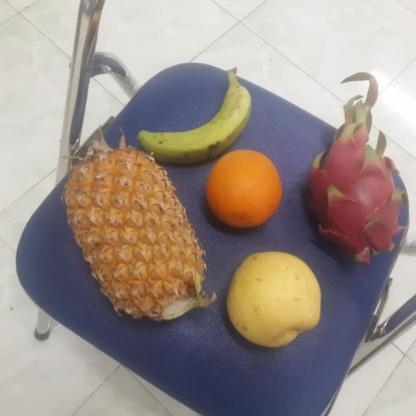banana: (130, 64, 249, 164)
orange: (202, 150, 284, 229)
pear: (222, 253, 321, 348)
pineapple: (59, 150, 209, 320)
pitaya: (297, 128, 406, 267)
